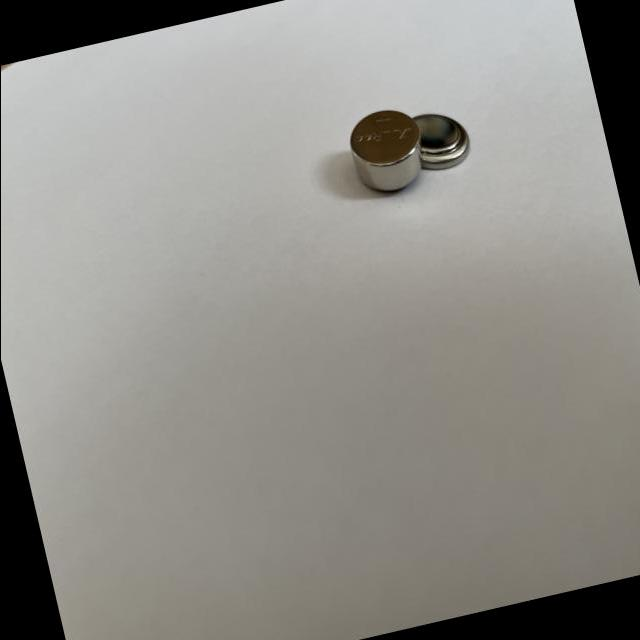COIN: (346, 103, 432, 198), (408, 104, 476, 176)
